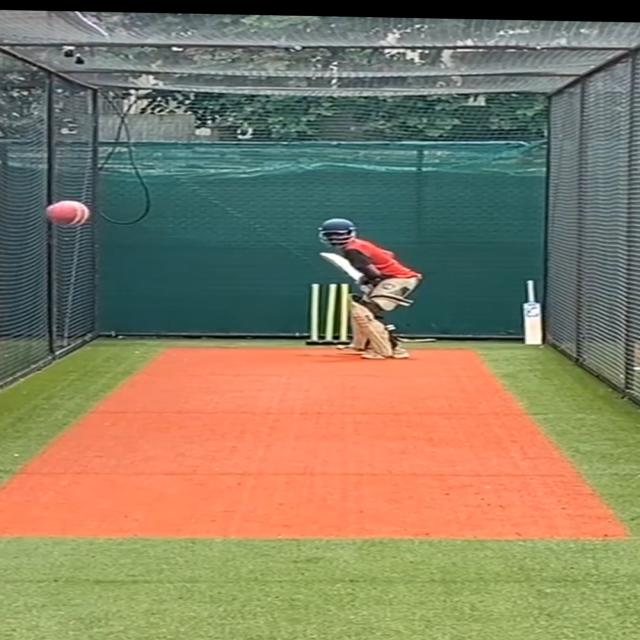ball: (42, 198, 96, 231)
stump: (306, 281, 358, 347)
